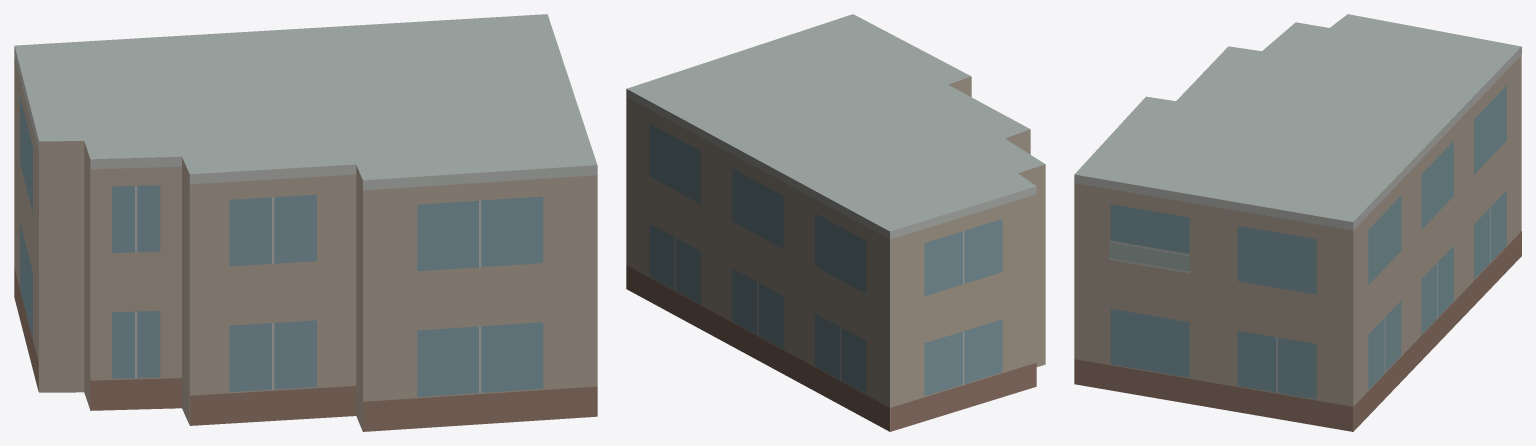
File: survey-upis-33005472.glb
3 views of the same model, side by side, from view 1: azimuth 30°, elevation 25°; view 2: azimuth 150°, elevation 25°; view 3: azimuth 270°, elevation 25° (orthographic). The views are drawn at different scales.
Parts seen in each view (by area): view 1: survey-upis-33005472.tmp; view 2: survey-upis-33005472.tmp; view 3: survey-upis-33005472.tmp.
Boxes of the visible parts, <box> form: survey-upis-33005472.tmp: <box>14,14,597,431</box>; survey-upis-33005472.tmp: <box>626,14,1045,431</box>; survey-upis-33005472.tmp: <box>1074,14,1521,431</box>.
Size of the model in its own units: 13 by 6.1 by 11.81.
